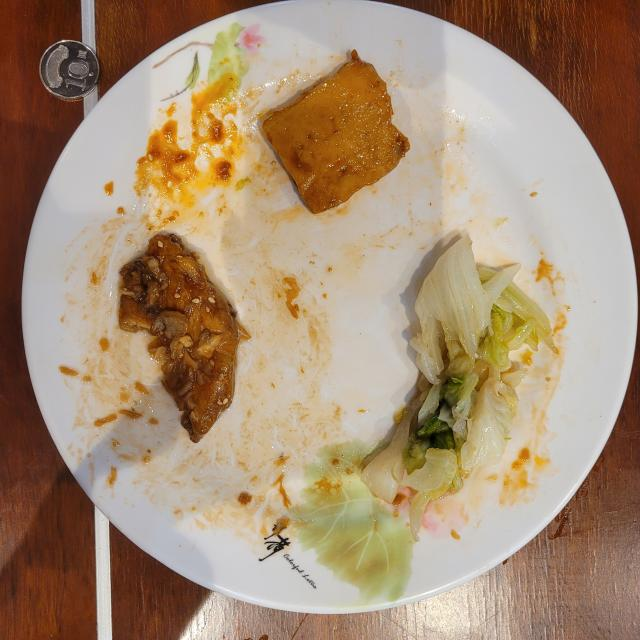Kabayaki sea bream fillet: (119, 234, 248, 442)
cabbage: (361, 235, 558, 540)
coin: (40, 40, 99, 100)
creamy tofu: (262, 50, 410, 214)
